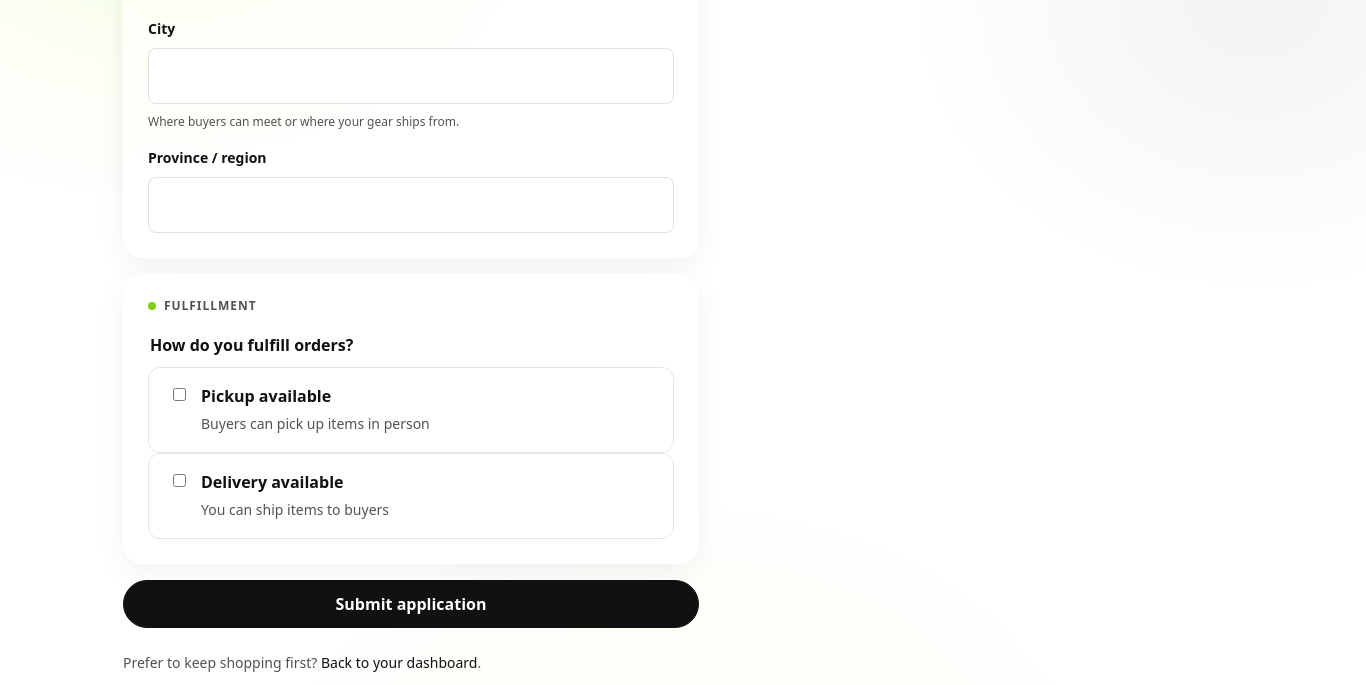
Scenario: SellerOnboardingPage › shows a validation error when the store name is missing
The width and height of the screenshot is (1366, 685).
(page scrolled)
Click the button "Submit application" at (411, 604), box top-left (123, 580), bottom-right (699, 628)
(page scrolled)
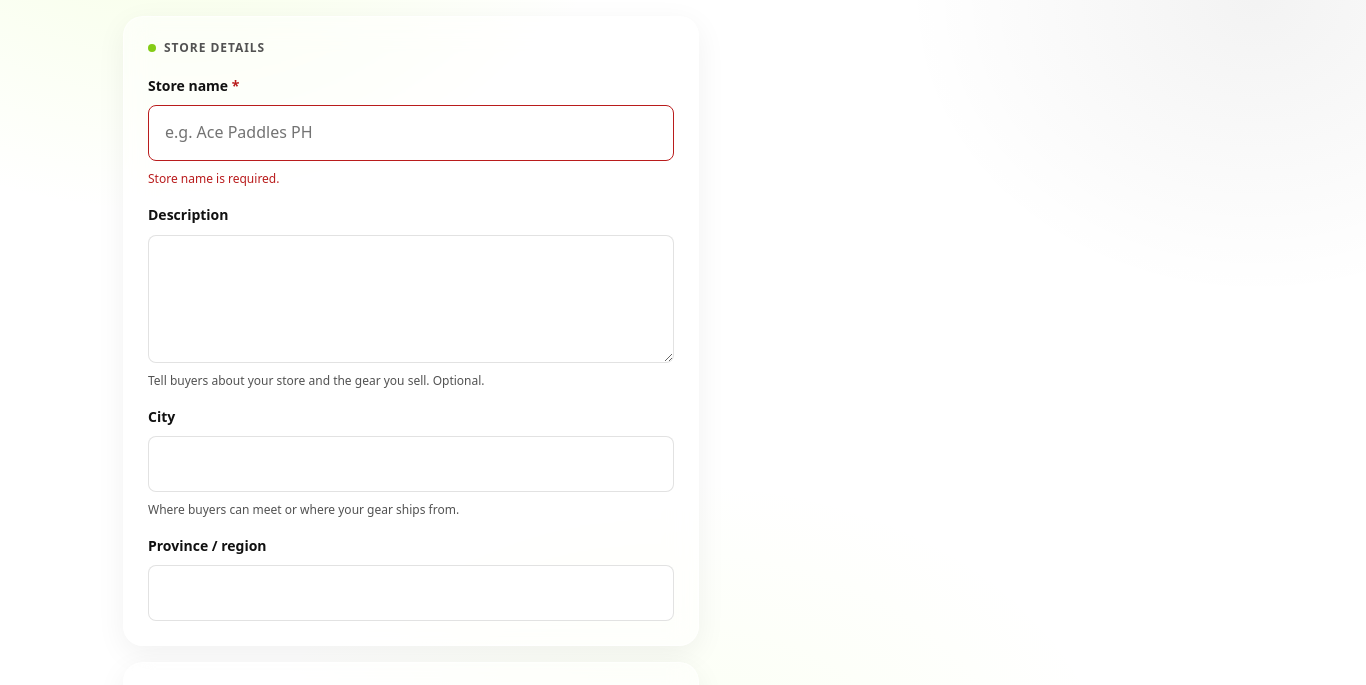
Now the text "Store name is required." is shown, box top-left (148, 170), bottom-right (280, 187)
